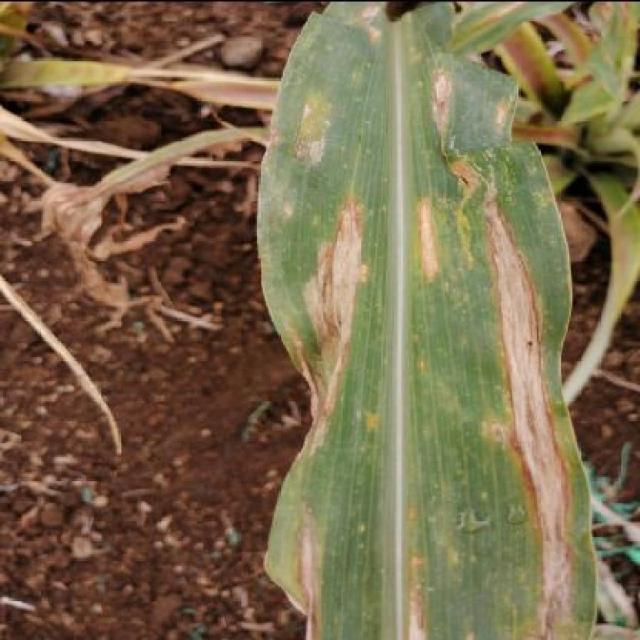Corn_Leaf_Blight: (248, 0, 583, 640)
